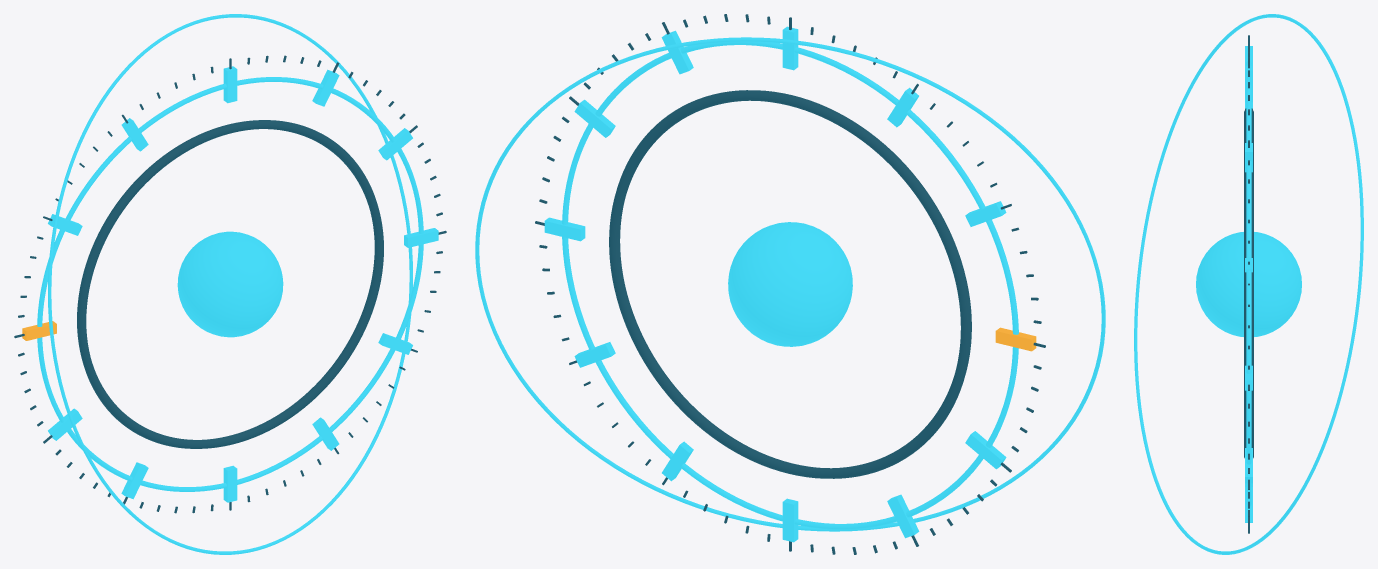
Rendered from core.glb.
3 views of the same model, side by side, from view 1: azimuth 30°, elevation 25°; view 2: azimuth 150°, elevation 25°; view 3: azimuth 270°, elevation 25° (orthographic). The views are drawn at different scales.
Visible parts, largest first — view 1: ring_b, core_orb, ring_a, ring_c, ticks; view 2: ring_b, core_orb, ring_a, ring_c, ticks; view 3: core_orb, ring_c, ring_a, ring_b, ticks.
Boxes of the visible parts, bbox=[...] form: ring_b: bbox=[77, 120, 383, 448]; core_orb: bbox=[177, 231, 283, 337]; ring_a: bbox=[37, 77, 423, 491]; ring_c: bbox=[48, 14, 412, 554]; ticks: bbox=[14, 55, 446, 513]; ring_b: bbox=[609, 90, 971, 478]; core_orb: bbox=[728, 222, 852, 346]; ring_a: bbox=[562, 41, 1018, 529]; ring_c: bbox=[475, 37, 1105, 531]; ticks: bbox=[535, 14, 1045, 554]; core_orb: bbox=[1196, 232, 1301, 336]; ring_c: bbox=[1134, 14, 1363, 554]; ring_a: bbox=[1246, 61, 1251, 506]; ring_b: bbox=[1244, 108, 1253, 458]; ticks: bbox=[1248, 35, 1249, 533].
Size of the model in its own units: 2.32 by 2.37 by 1.04.
